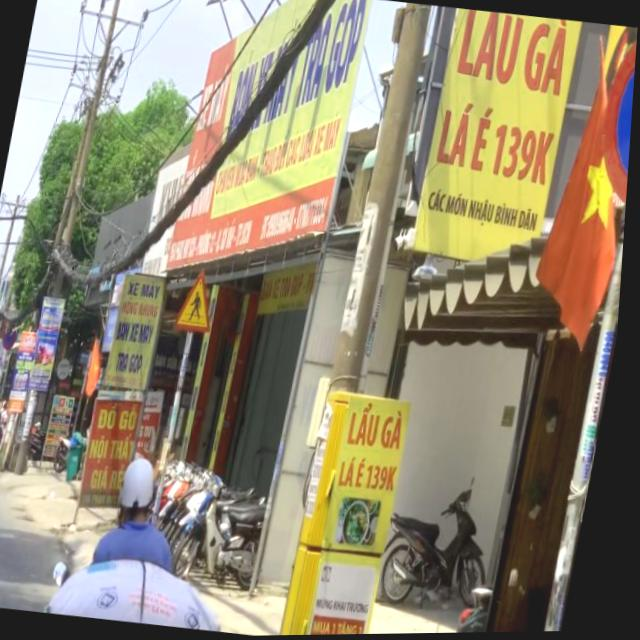Cam do xe: (587, 27, 638, 211)
Nguoi di bo cat ngang: (175, 265, 227, 338)
